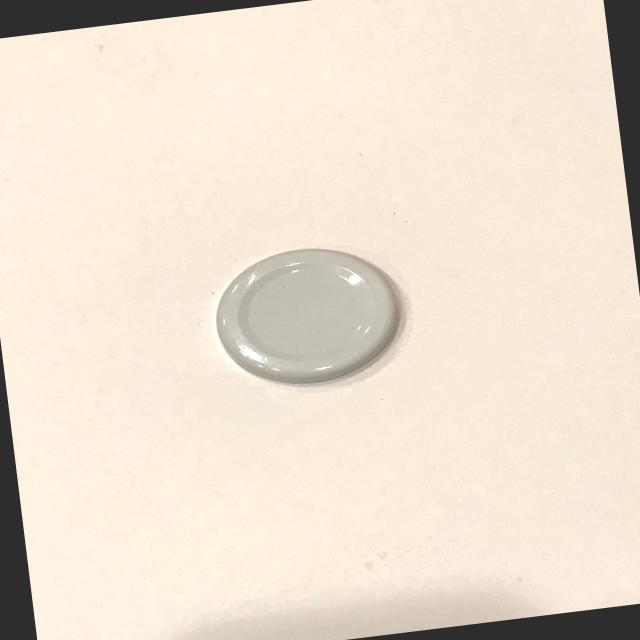Metal: (195, 229, 422, 413)
